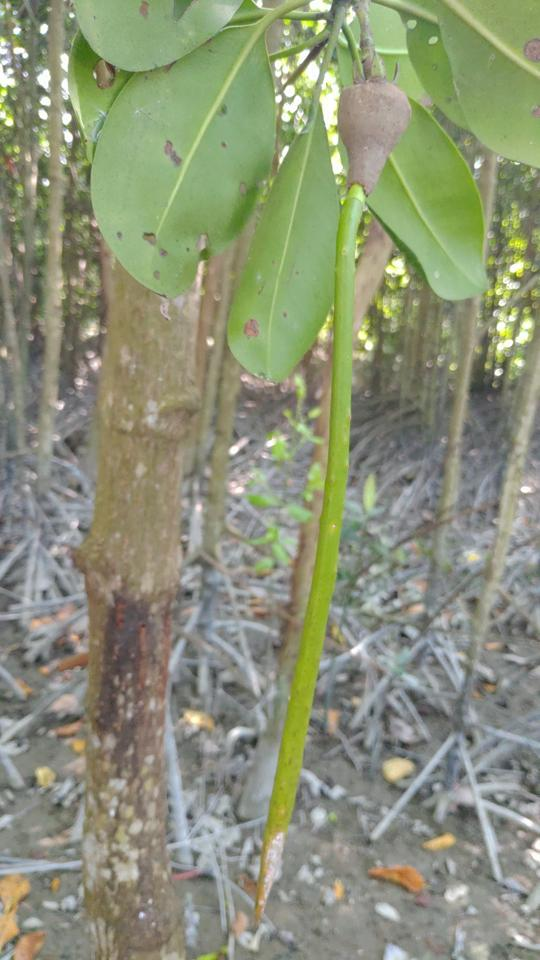setengah matang: (243, 58, 417, 944)
